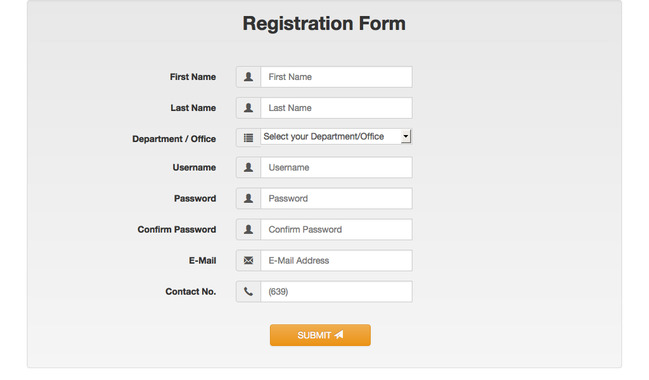_form_: (112, 1, 528, 380)
button: (268, 322, 371, 347)
field: (257, 248, 414, 274), (258, 63, 414, 89), (258, 185, 416, 210), (257, 217, 414, 242), (259, 155, 417, 179), (257, 280, 415, 302), (258, 97, 414, 118)
field_with_label: (138, 216, 415, 243), (169, 61, 416, 90), (184, 246, 416, 275), (173, 153, 420, 180), (174, 184, 418, 211), (165, 278, 418, 304), (170, 95, 416, 120), (132, 125, 416, 146)
select: (259, 126, 413, 145)
